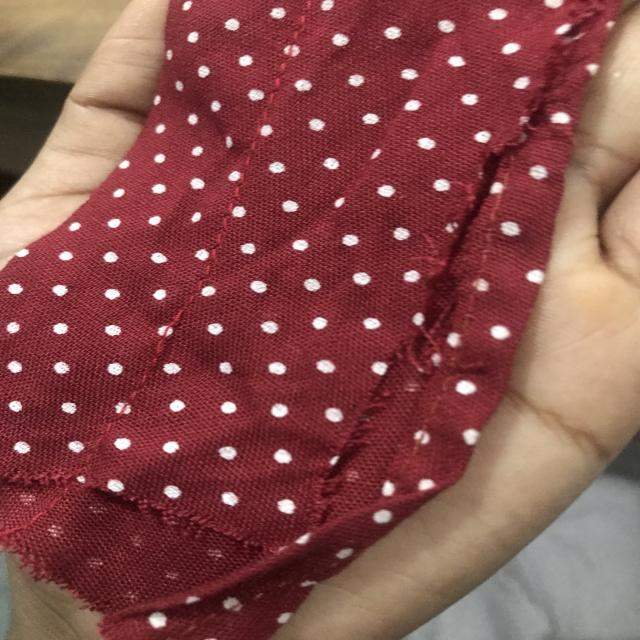skip: (138, 290, 205, 371)
